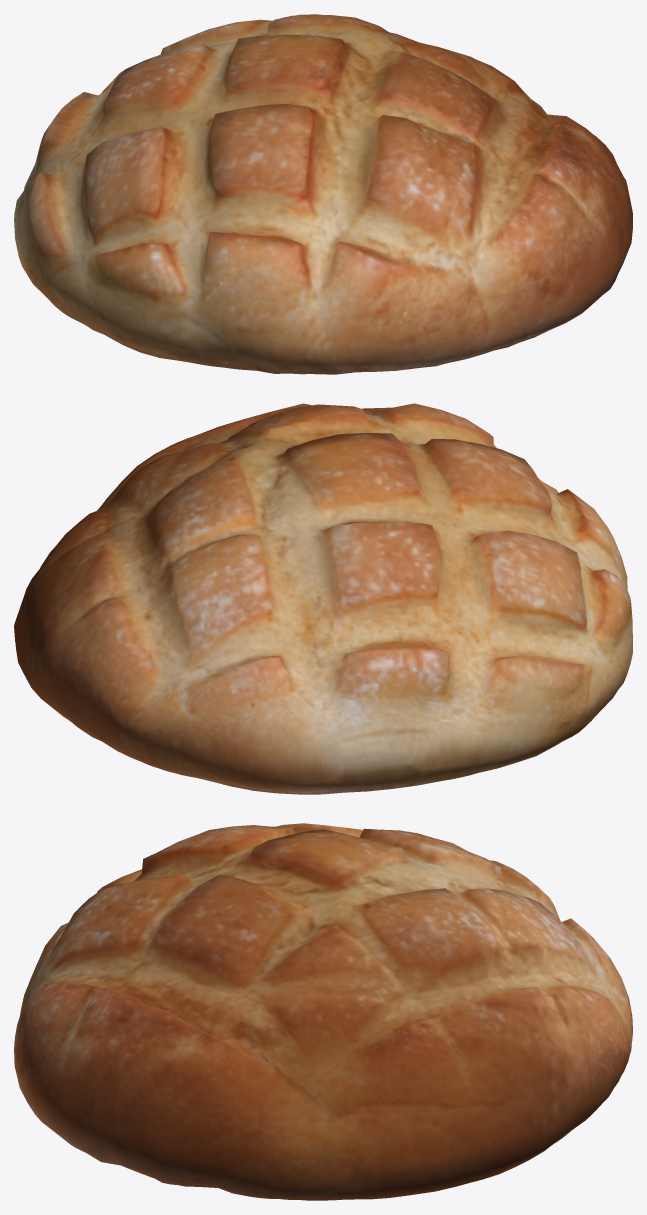
The model's file is bread-roll--game-ready---2k-pbr-3aa235.glb.
3 renders of one model, top to bottom at view 1: azimuth 30°, elevation 25°; view 2: azimuth 150°, elevation 25°; view 3: azimuth 270°, elevation 25°, orthographic. The views are drawn at different scales.
Parts seen in each view (by area): view 1: PropMesh; view 2: PropMesh; view 3: PropMesh.
Boxes of the visible parts, box(x1,y1,x2,y2) form: PropMesh: box(14, 14, 632, 374); PropMesh: box(14, 403, 632, 794); PropMesh: box(14, 823, 632, 1200).
Size of the model in its own units: 0.3458 by 0.1483 by 0.35.
1 material, 1 textured.
